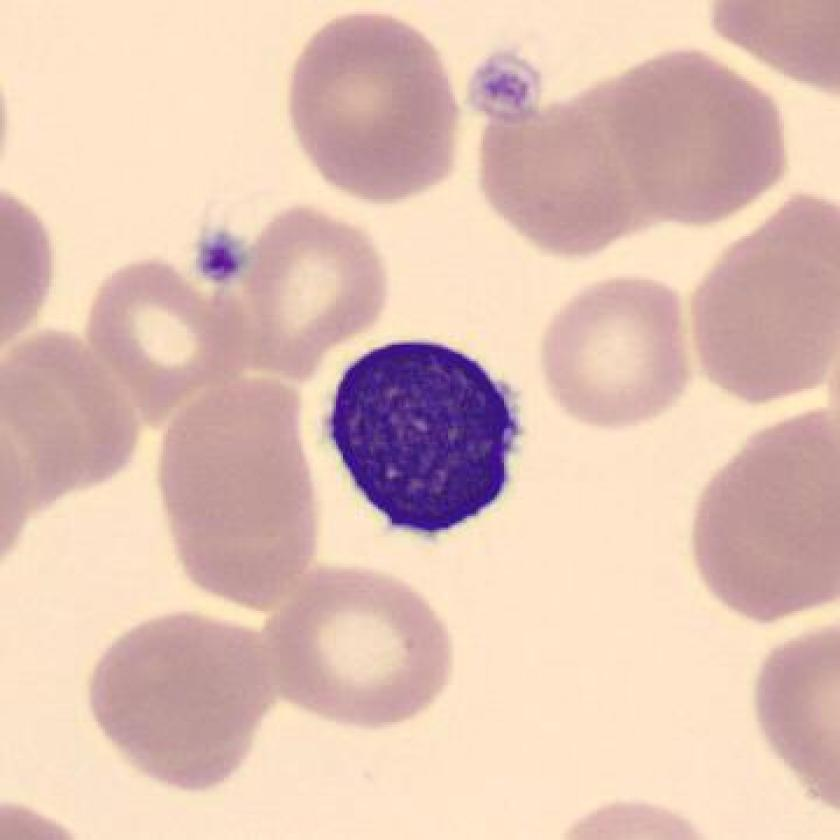lymphocyte: (311, 316, 538, 559)
